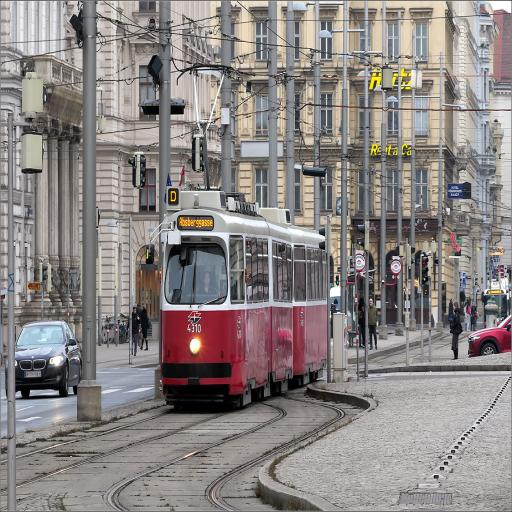E2-Tram: (159, 186, 329, 401)
